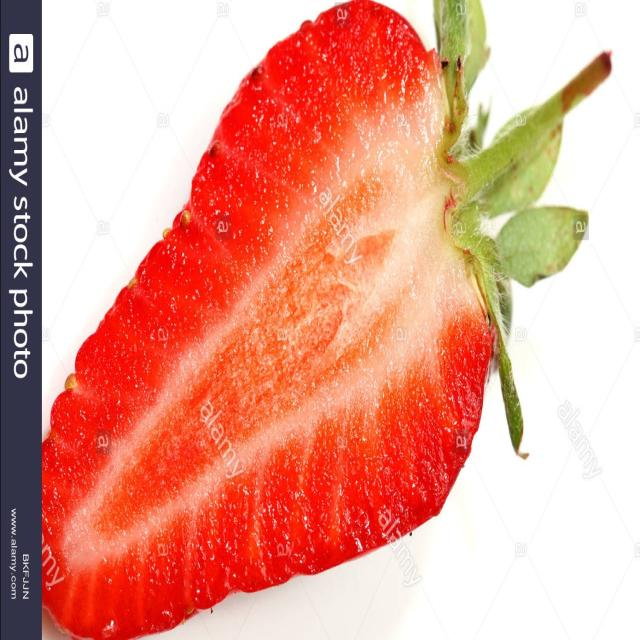strawberry: (40, 0, 618, 640)
